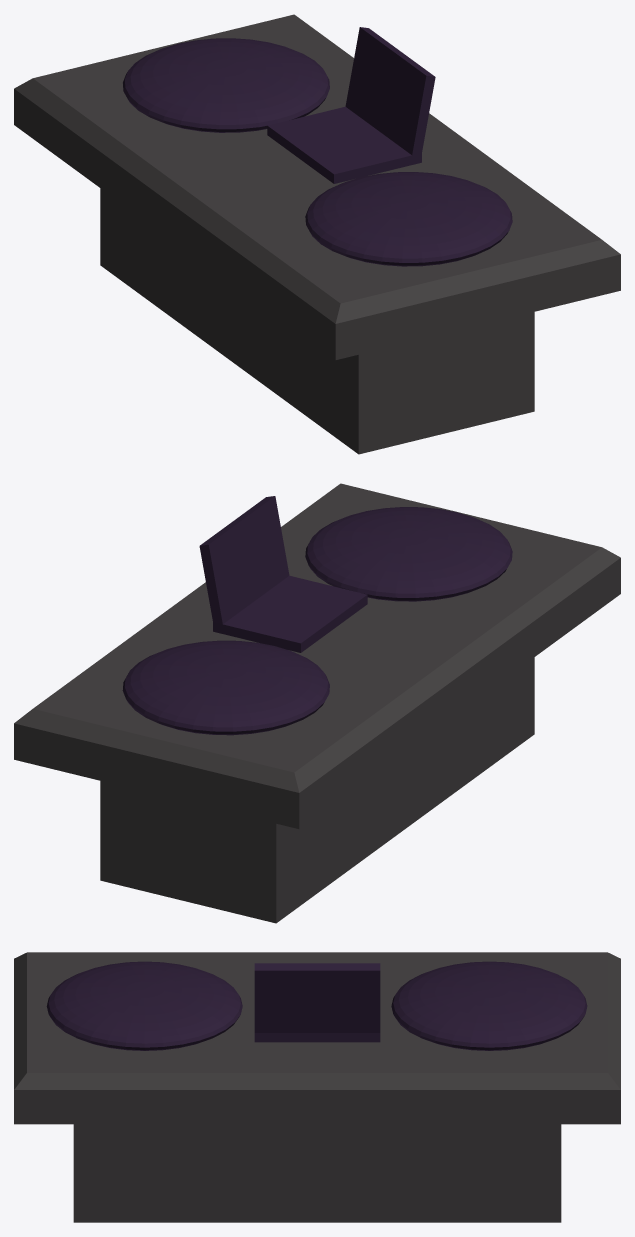
The model's file is djset.fbx.
3 renders of one model, top to bottom at view 1: azimuth 30°, elevation 25°; view 2: azimuth 150°, elevation 25°; view 3: azimuth 270°, elevation 25°, orthographic. The views are drawn at different scales.
Visible parts, largest first — view 1: Cube, Sphere.001, Sphere, Cube.001; view 2: Cube, Sphere, Sphere.001, Cube.001; view 3: Cube, Sphere, Sphere.001, Cube.001.
Part boxes in pixels (<box>): Cube: <box>14,14,620,454</box>; Sphere.001: <box>305,172,512,266</box>; Sphere: <box>123,38,329,132</box>; Cube.001: <box>267,27,435,183</box>; Cube: <box>14,483,620,923</box>; Sphere: <box>122,640,329,735</box>; Sphere.001: <box>305,507,512,601</box>; Cube.001: <box>199,496,367,652</box>; Cube: <box>14,952,620,1222</box>; Sphere: <box>391,961,587,1050</box>; Sphere.001: <box>46,961,242,1050</box>; Cube.001: <box>254,963,380,1042</box>.
Size of the model in its own units: 457 by 411 by 892.
